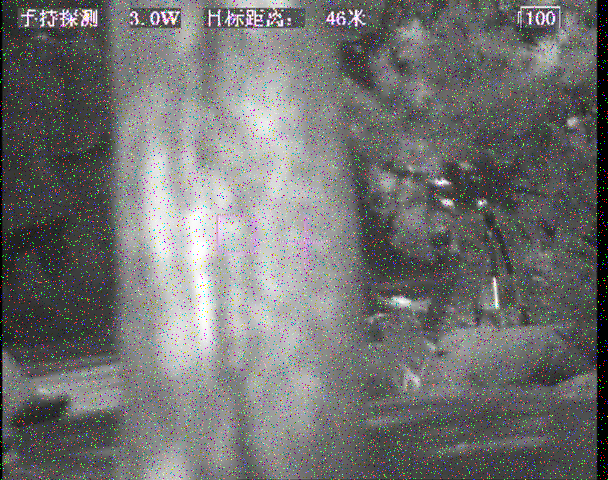my: (476, 198, 487, 208)
